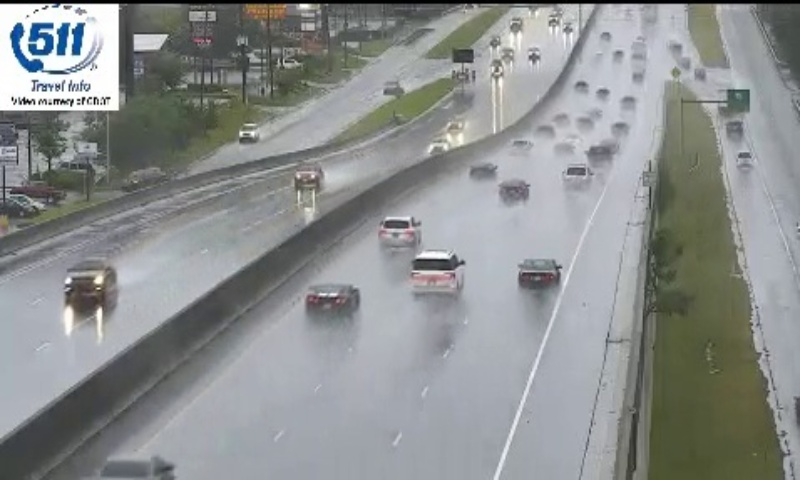car: (411, 251, 463, 295), (306, 283, 358, 320), (378, 215, 423, 249), (518, 258, 559, 292)
